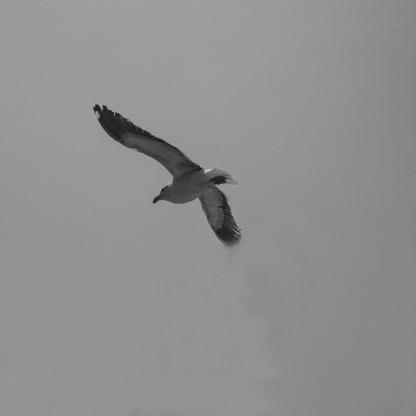bird: (93, 102, 242, 250)
